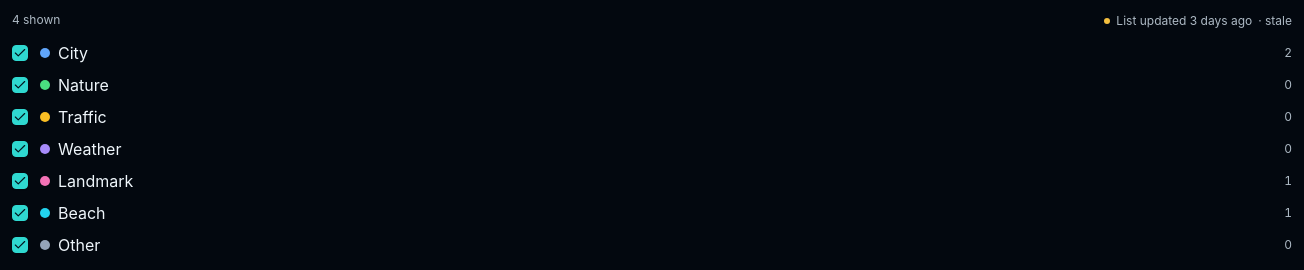
CameraLayerControls › hides a category and remembers the choice on this device
The image size is (1304, 270).
Click the checkbox named "City" next to "City".
click(20, 53)  # box [12,45,28,61]
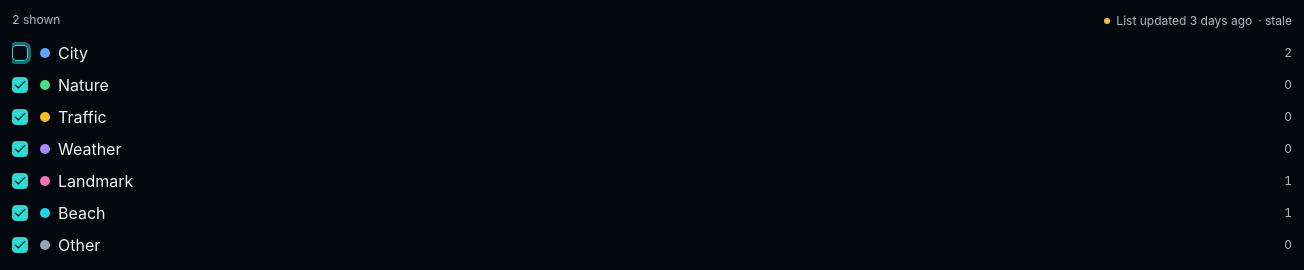
Check: the checkbox named "City" next to "City" is not checked, box [12,45,28,61]
Check: the text "2 shown" is shown, box [12,12,60,28]
